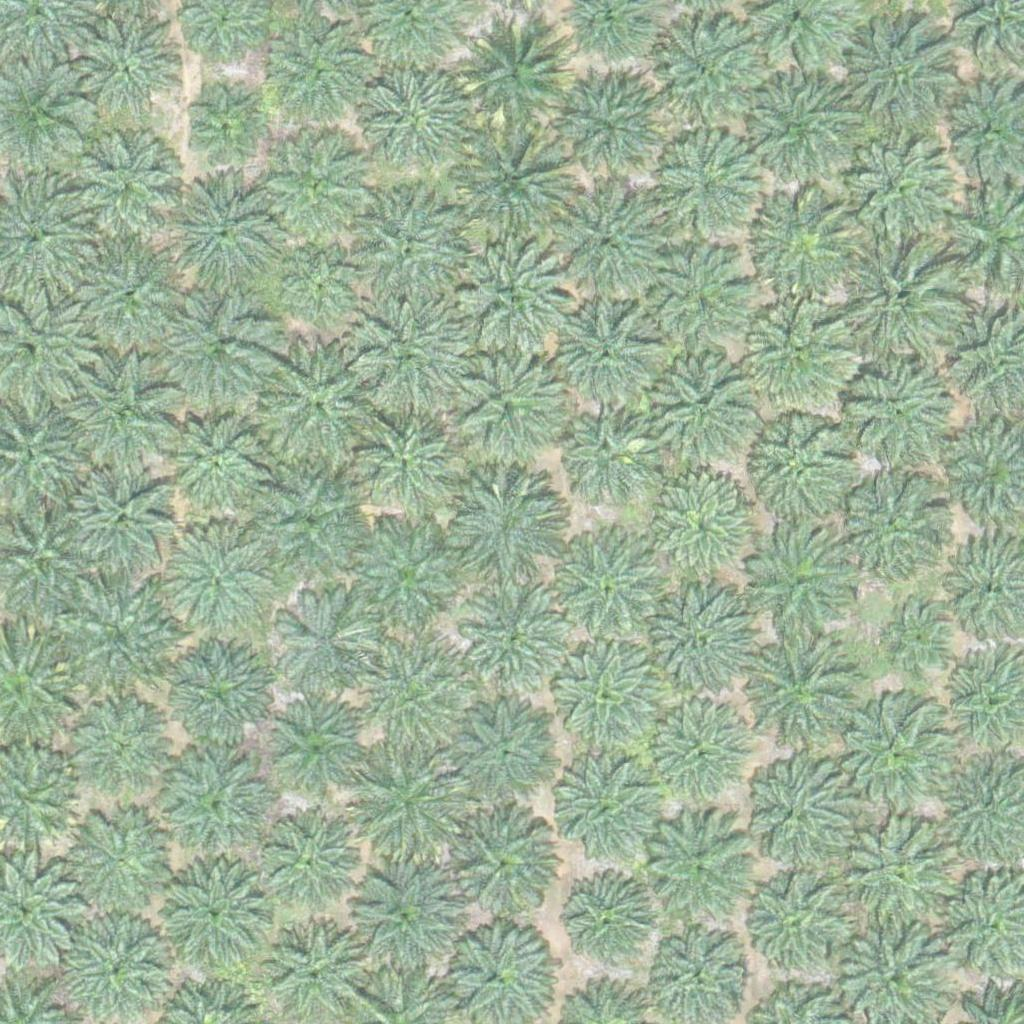Kelapa_Sawit: (262, 344, 387, 470), (348, 191, 473, 317), (353, 66, 466, 180), (71, 239, 184, 353), (68, 132, 181, 246), (550, 642, 663, 756), (444, 697, 557, 811), (744, 79, 857, 192), (650, 17, 763, 130), (67, 464, 180, 577), (64, 360, 177, 473), (163, 644, 276, 757), (354, 296, 467, 409), (448, 473, 561, 586), (451, 353, 564, 466), (456, 249, 569, 362), (553, 532, 666, 645), (841, 696, 954, 809), (847, 246, 960, 359), (642, 812, 755, 925), (153, 855, 266, 968), (163, 180, 275, 294), (165, 294, 277, 408), (253, 473, 365, 587), (348, 524, 460, 638), (462, 583, 574, 697), (444, 805, 556, 919), (353, 744, 465, 858), (839, 21, 951, 134), (555, 76, 667, 189), (462, 20, 574, 133), (64, 587, 176, 700), (352, 644, 464, 757), (457, 125, 569, 238), (552, 185, 664, 298), (548, 294, 660, 407), (640, 588, 752, 701), (646, 471, 758, 584), (647, 357, 759, 470), (745, 527, 857, 640), (740, 641, 852, 754), (846, 821, 958, 934), (741, 752, 853, 865), (739, 862, 851, 975), (346, 863, 458, 976), (62, 803, 174, 916), (78, 18, 178, 119), (171, 529, 271, 630), (265, 700, 365, 801), (265, 142, 365, 243), (558, 398, 658, 499), (646, 241, 746, 342), (656, 132, 756, 233), (756, 190, 856, 291), (748, 307, 848, 408), (751, 416, 851, 517), (843, 474, 943, 575), (849, 361, 949, 462), (558, 759, 658, 860), (258, 811, 358, 912), (262, 918, 362, 1019), (166, 753, 266, 854), (69, 696, 169, 797), (270, 21, 370, 121), (164, 412, 264, 512), (271, 597, 371, 697), (357, 408, 457, 508), (653, 703, 753, 803), (845, 134, 945, 234), (562, 873, 662, 973), (184, 92, 259, 168), (286, 251, 361, 327), (880, 601, 955, 676)
